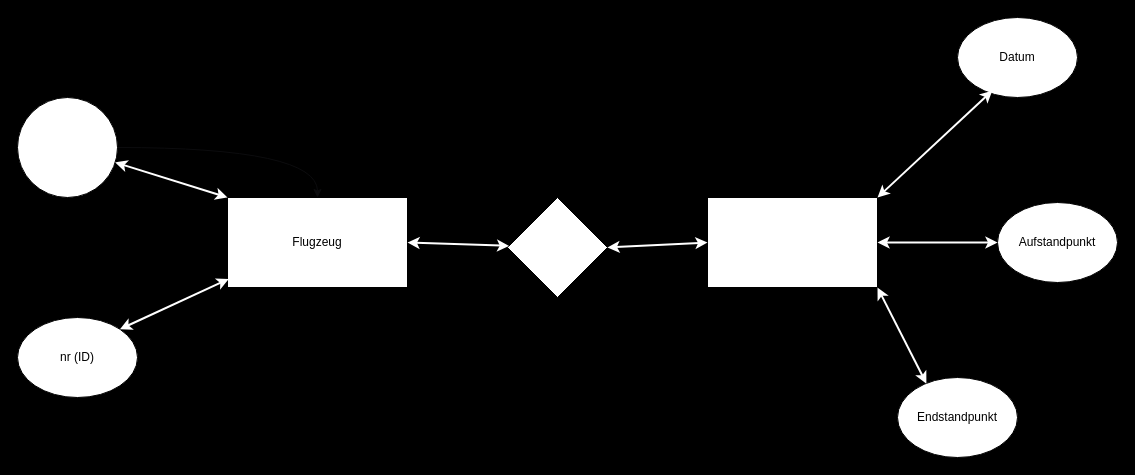
Image size: 1135x475. Some labels were removed from this diagram. Each missing label, with the centre of its shape:
"Gesellschaft" belongs at (x=67, y=147).
"Kervin" belongs at (x=792, y=242).
